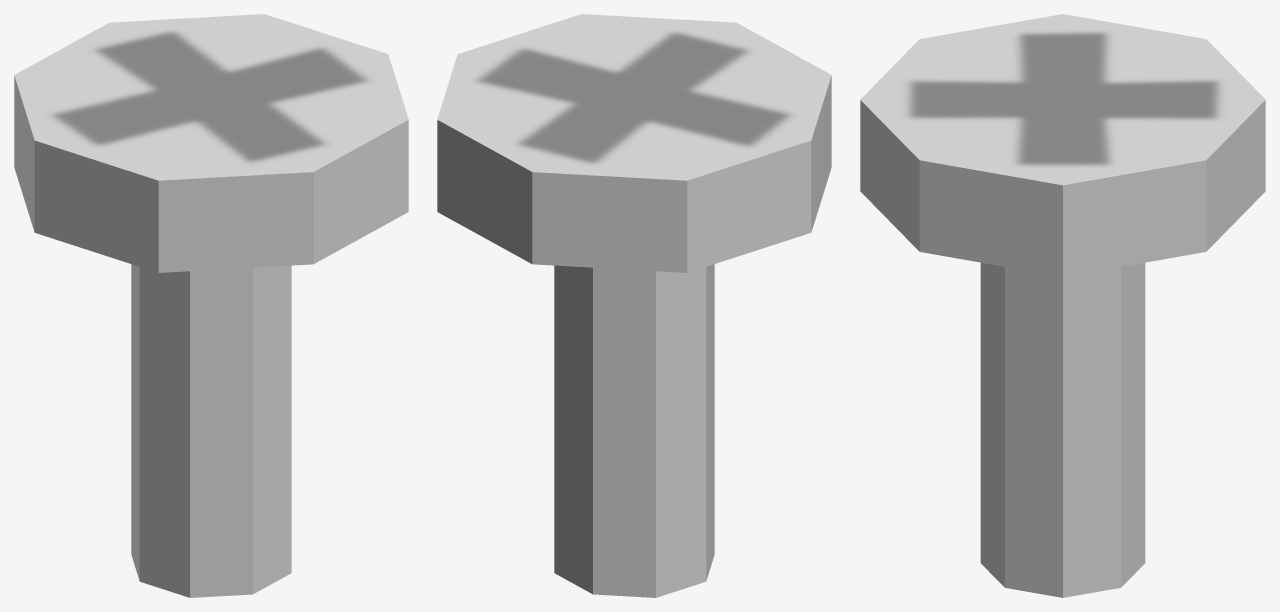
The model's file is screw.fbx.
3 renders of one model, left to right at view 1: azimuth 30°, elevation 25°; view 2: azimuth 150°, elevation 25°; view 3: azimuth 270°, elevation 25°, orthographic.
Parts seen in each view (by area): view 1: screw; view 2: screw; view 3: screw.
Part boxes in pixels (<box>): screw: <box>14,14,408,597</box>; screw: <box>437,14,831,597</box>; screw: <box>860,14,1265,597</box>.
Size of the model in its own units: 0.575 by 0.7252 by 0.575.
